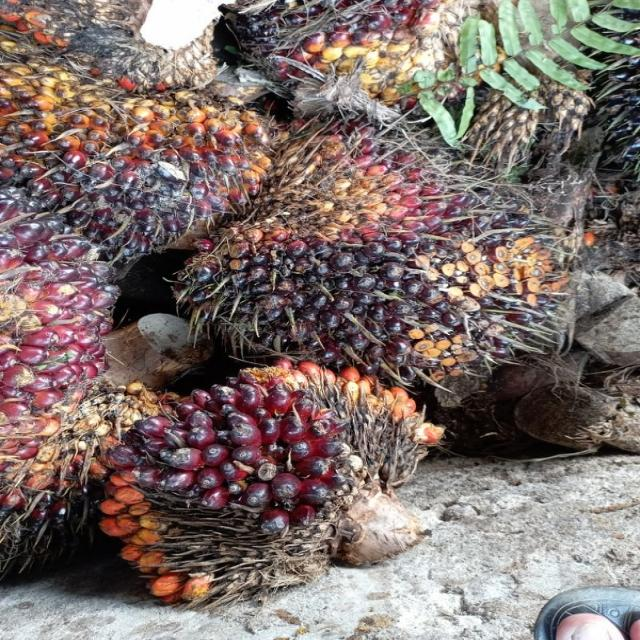fraksi 1: (139, 74, 606, 425)
